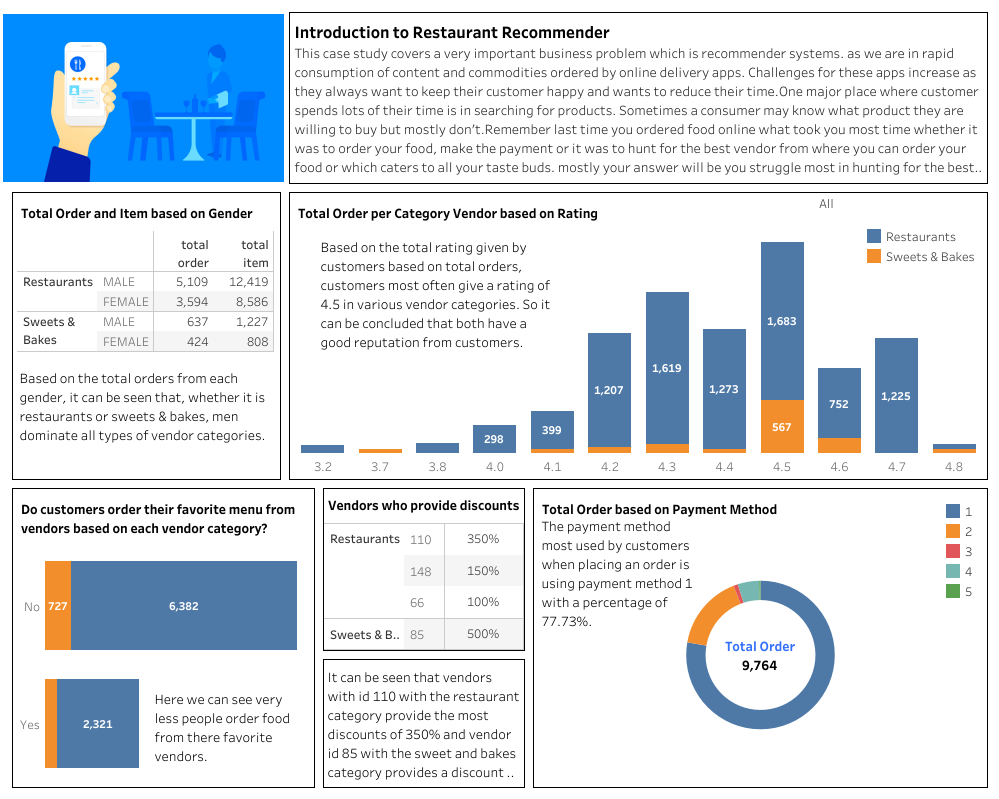

What the dashboard file says about the page in this screenshot:
{"tool":"tableau","page":{"name":"Insight and Recommendation","canvas":[1024,768],"ordinal":0},"visuals":[{"type":"image","param":"Image/Slide1.PNG","box":[8,8,1008,752]},{"type":"text","box":[289,115,708,72]},{"type":"image","param":"Image/Gett_logo_PNG4.png","box":[48,118,200,66]},{"type":"text","box":[35,200,954,121]},{"type":"text","box":[35,356,954,160]},{"type":"text","box":[35,580,954,49]}]}

Visuals, with their boxes on the page's 1024x768 design canvas (x1, y1, x2, y2). These are canvas units, not pixel positions in the 999x799 screenshot, which may show the page scaled, cropped or inside an application window:
image: crop(8, 8, 1016, 760)
text: crop(289, 115, 997, 187)
image: crop(48, 118, 248, 184)
text: crop(35, 200, 989, 321)
text: crop(35, 356, 989, 516)
text: crop(35, 580, 989, 629)
